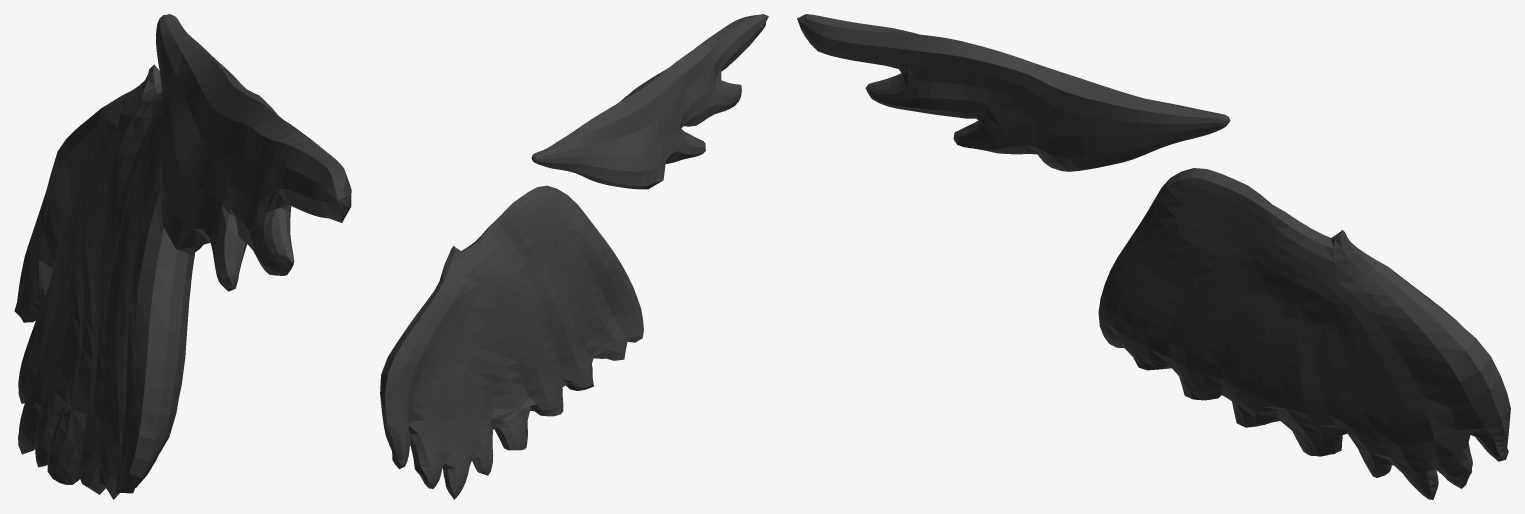
The model's file is Serratus_ventralis.glb.
3 renders of one model, left to right at view 1: azimuth 30°, elevation 25°; view 2: azimuth 150°, elevation 25°; view 3: azimuth 270°, elevation 25°, orthographic. The views are drawn at different scales.
Parts seen in each view (by area): view 1: Serratus_ventralis; view 2: Serratus_ventralis; view 3: Serratus_ventralis.
Part boxes in pixels (x1,y1,x2,y2): Serratus_ventralis: (14,14,351,499); Serratus_ventralis: (380,14,768,499); Serratus_ventralis: (797,14,1510,499).
Size of the model in its own units: 30.94 by 73.34 by 108.
1 material, 1 textured.
